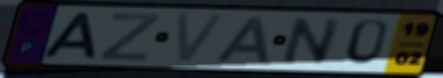0: (340, 18, 391, 67)
A: (38, 11, 99, 60), (212, 16, 272, 65)
N: (277, 16, 346, 66)
V: (173, 11, 231, 65)
Z: (95, 11, 163, 62)
